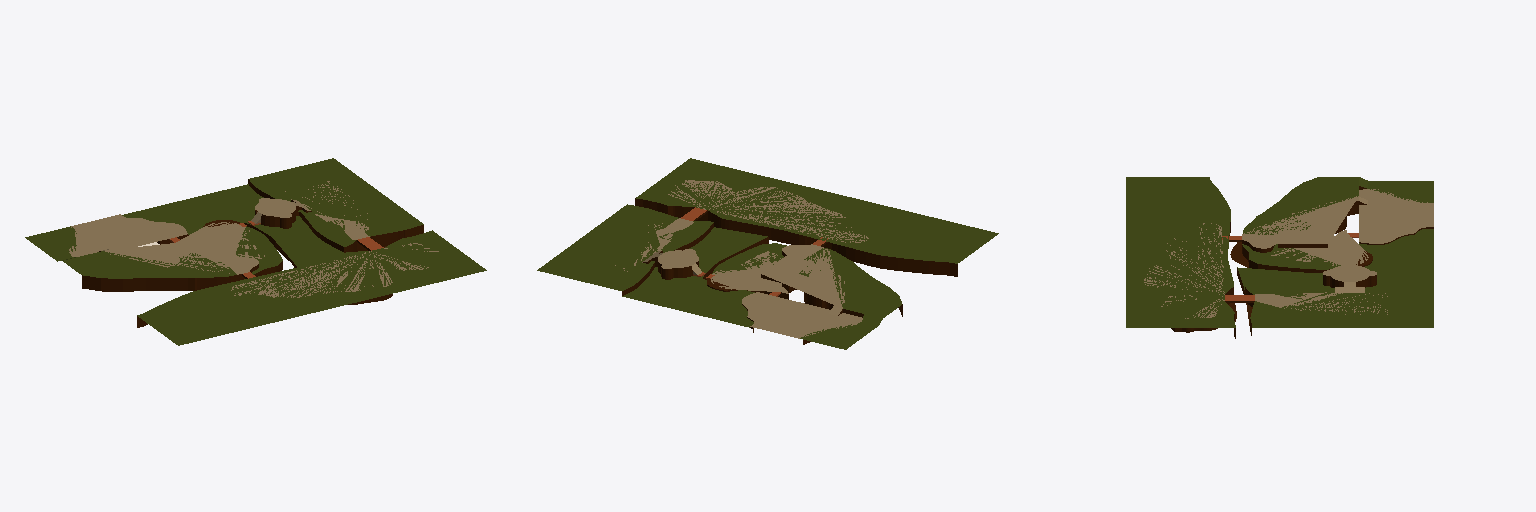
Rendered from Level.obj.
The picture shows the model from 3 angles: view 1: azimuth 30°, elevation 25°; view 2: azimuth 150°, elevation 25°; view 3: azimuth 270°, elevation 25°; orthographic projection.
Visible parts, largest first — view 1: Mesh1 Model; view 2: Mesh1 Model; view 3: Mesh1 Model.
Part boxes in pixels (x1,y1,x2,y2): Mesh1 Model: (25, 158, 486, 345); Mesh1 Model: (537, 158, 998, 349); Mesh1 Model: (1126, 177, 1433, 338).
Bounding box in the file's own units: 41.58 × 2.37 × 35.79.